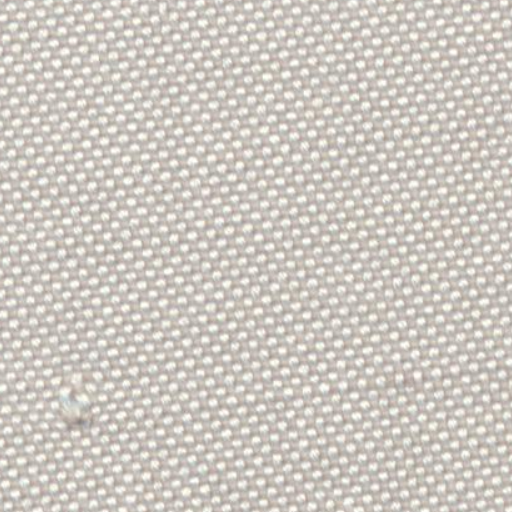PoDong: (48, 379, 112, 434)
